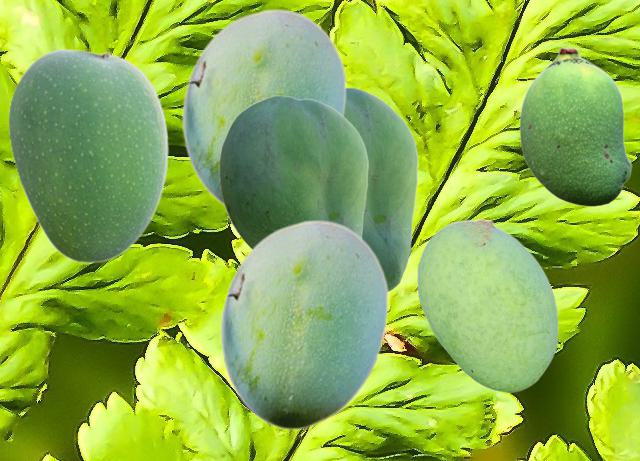green_mango: (219, 219, 388, 429), (8, 48, 168, 262), (181, 8, 346, 206), (417, 218, 557, 391), (219, 95, 367, 248), (519, 47, 631, 206), (345, 85, 417, 293)
